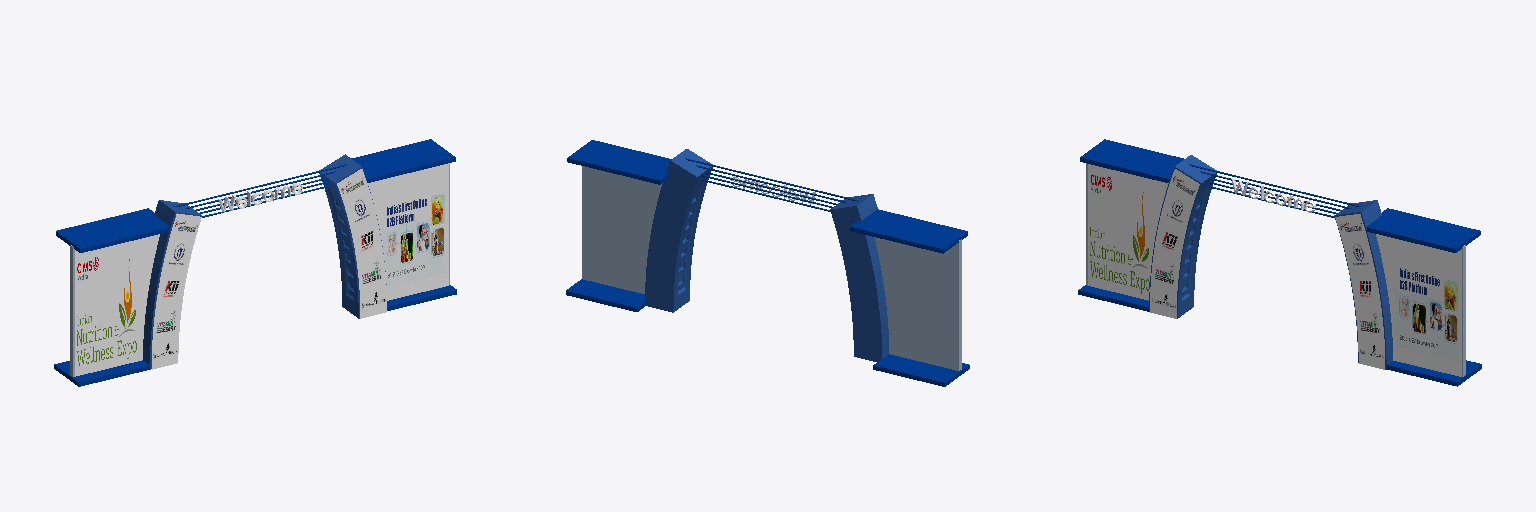
3 renders of one model, left to right at view 1: azimuth 30°, elevation 25°; view 2: azimuth 150°, elevation 25°; view 3: azimuth 330°, elevation 25°, orthographic.
Visible parts, largest first — view 1: Plane01, Plane02, Plane04, Plane03, Box08, Box04, Box07, Box01, Box02, Text01, Box05, Box03; view 2: Box03, Box06, Box08, Box01, Box04, Box07, Box02, Box05; view 3: Plane02, Plane01, Plane03, Plane04, Box01, Box07, Box04, Box08, Box05, Box02, Text01.
Part boxes in pixels (x1,y1,x2,y2): Plane01: (75, 234, 159, 376); Plane02: (368, 163, 448, 300); Plane04: (337, 169, 386, 318); Plane03: (152, 213, 201, 369); Box08: (319, 154, 386, 318); Box04: (56, 208, 169, 252); Box07: (351, 139, 455, 182); Box01: (143, 200, 201, 369); Box02: (54, 360, 149, 386); Text01: (218, 183, 302, 212); Box05: (387, 285, 456, 310); Box03: (70, 245, 74, 376); Box03: (874, 237, 961, 370); Box06: (582, 166, 662, 293); Box08: (645, 149, 712, 312); Box01: (830, 194, 888, 361); Box04: (850, 209, 967, 253); Box07: (567, 140, 671, 184); Box02: (873, 354, 969, 386); Box05: (566, 279, 645, 311); Plane02: (1376, 234, 1461, 376); Plane01: (1088, 164, 1168, 300); Plane03: (1150, 169, 1199, 318); Plane04: (1335, 214, 1384, 369); Box01: (1149, 155, 1216, 318); Box07: (1366, 208, 1480, 252); Box04: (1080, 139, 1183, 182); Box08: (1334, 200, 1392, 369); Box05: (1387, 360, 1481, 386); Box02: (1078, 285, 1148, 311); Text01: (1232, 178, 1316, 212).
Bounding box in the file's own units: 49.03 × 18.77 × 5.79.
Materials: 7 (3 with a texture image).